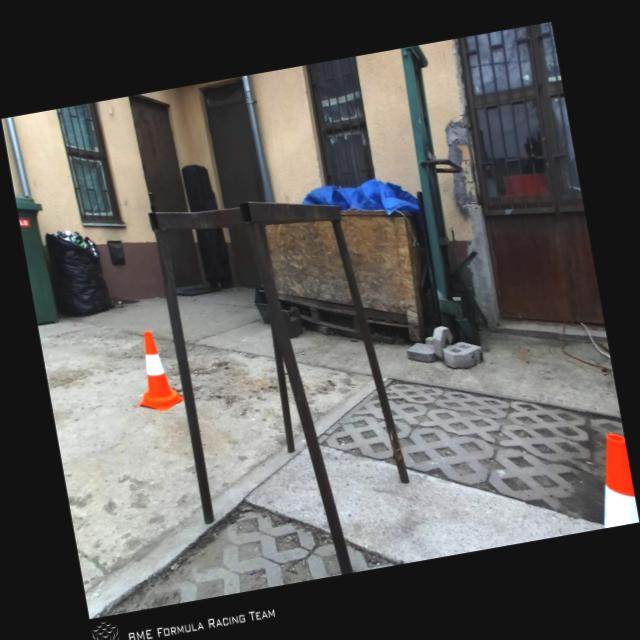orange_cone: (126, 326, 184, 414), (588, 431, 638, 528)
